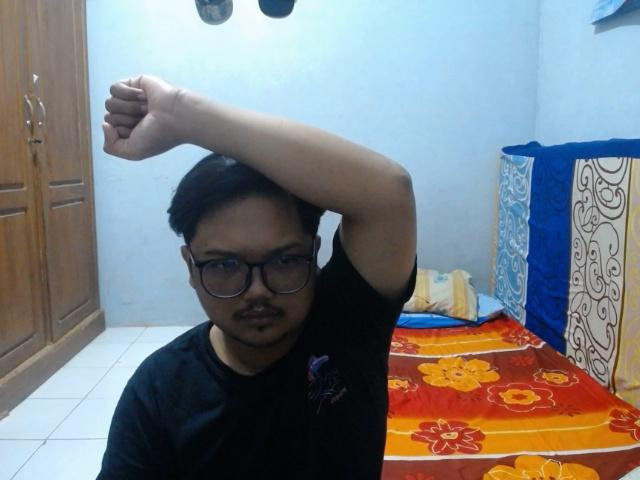Grab: (100, 67, 199, 166)
